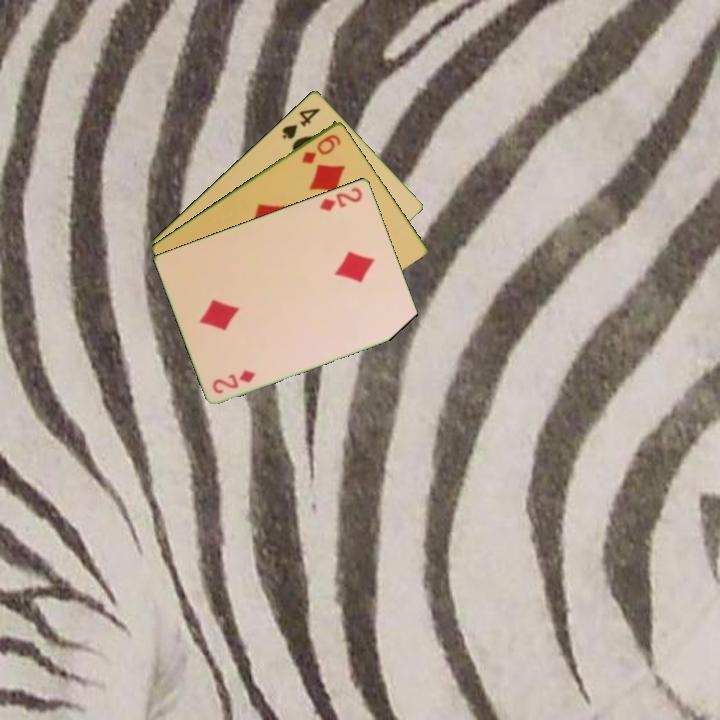2d: (316, 183, 365, 214), (209, 366, 258, 396)
4s: (278, 104, 323, 142)
6d: (298, 130, 344, 166)
